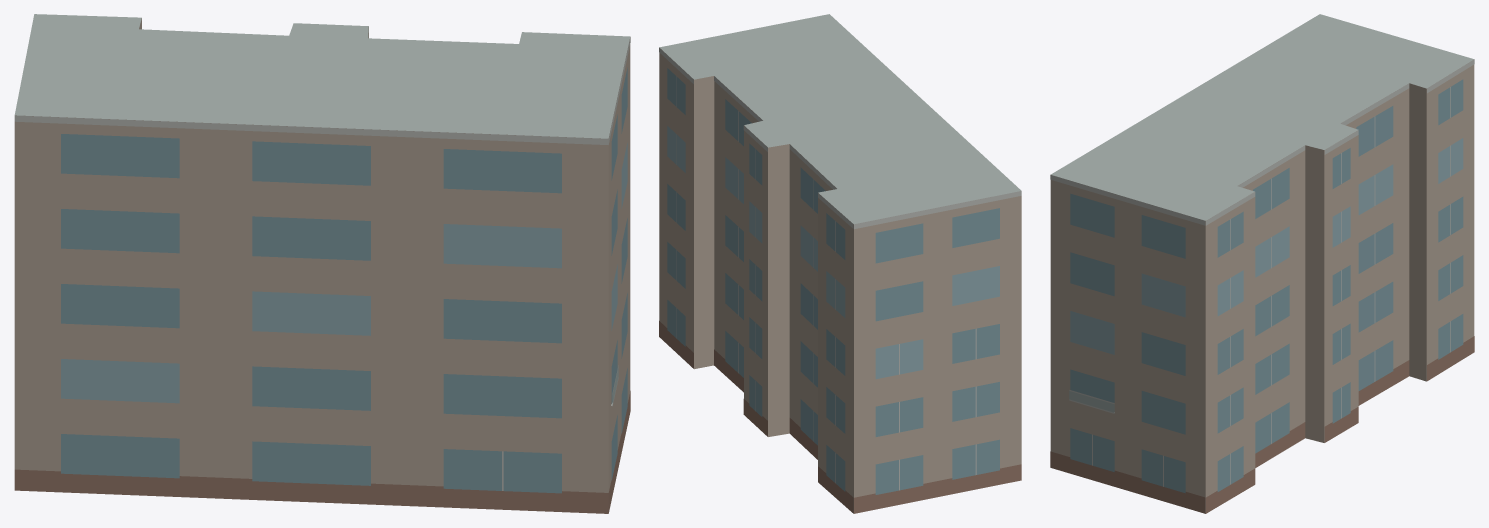
File: survey-upis-32786000.glb
3 renders of one model, left to right at view 1: azimuth 30°, elevation 25°; view 2: azimuth 150°, elevation 25°; view 3: azimuth 270°, elevation 25°, orthographic. The views are drawn at different scales.
Parts seen in each view (by area): view 1: survey-upis-32786000.tmp; view 2: survey-upis-32786000.tmp; view 3: survey-upis-32786000.tmp.
Boxes of the visible parts, x1,y1,x2,y2 form: survey-upis-32786000.tmp: (14,14,630,513); survey-upis-32786000.tmp: (659,14,1021,513); survey-upis-32786000.tmp: (1050,14,1474,513).
Bounding box in the file's own units: 21.66 × 14.3 × 18.76.
